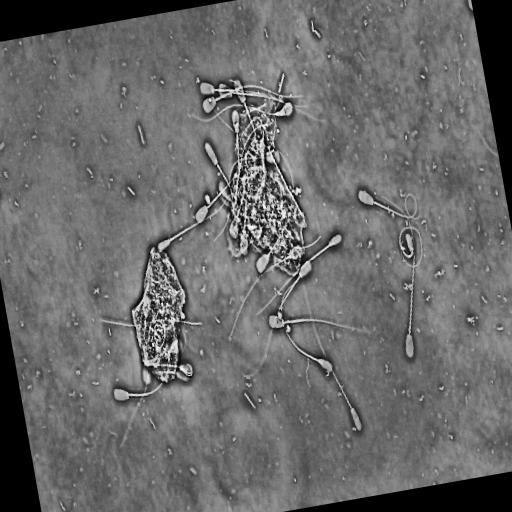coiled-tail: (373, 200, 411, 217), (405, 193, 417, 217), (411, 214, 420, 219)
dirt-particles: (224, 95, 307, 279), (129, 243, 186, 386), (202, 191, 211, 205)
folded-tail: (399, 226, 422, 267)
normal: (241, 257, 313, 378), (252, 230, 343, 319), (306, 297, 363, 432), (379, 193, 416, 361), (280, 281, 334, 375), (155, 191, 233, 254), (204, 139, 237, 248), (111, 358, 169, 403), (189, 101, 294, 125), (201, 91, 307, 113), (267, 312, 371, 334), (198, 80, 304, 100), (357, 187, 421, 220), (397, 223, 423, 267)
